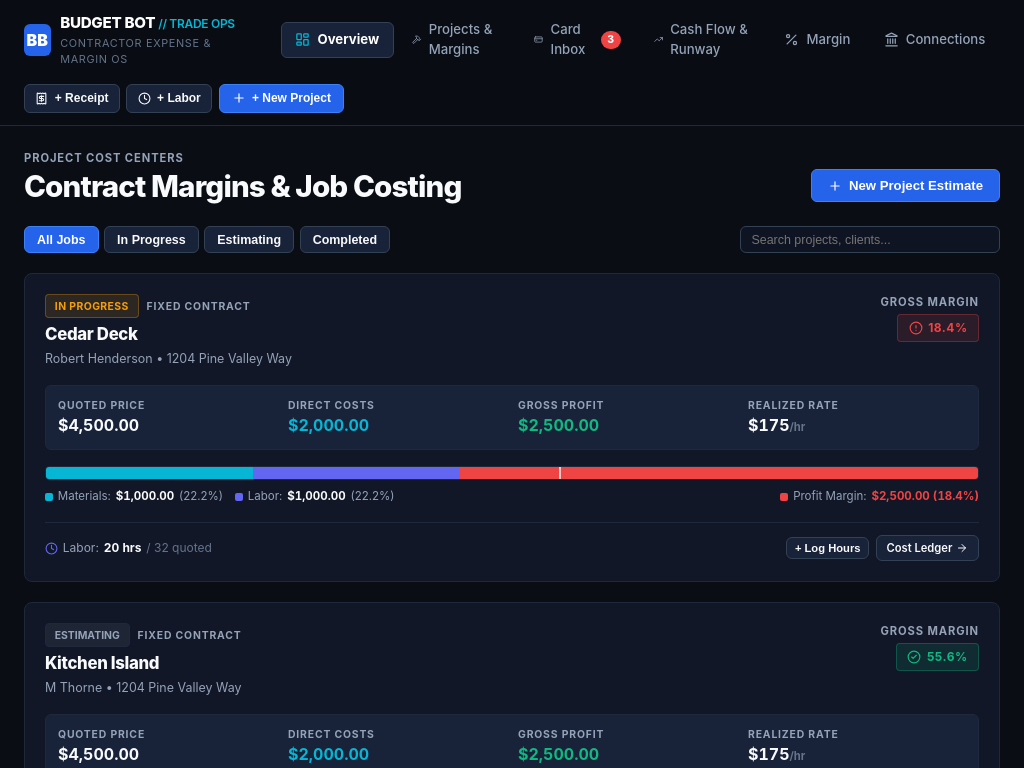
Scenario: ProjectsView › opens against the second job after being closed on the first
Click the button "+ Log Hours". click: (828, 548)
box: [786,537,870,559]
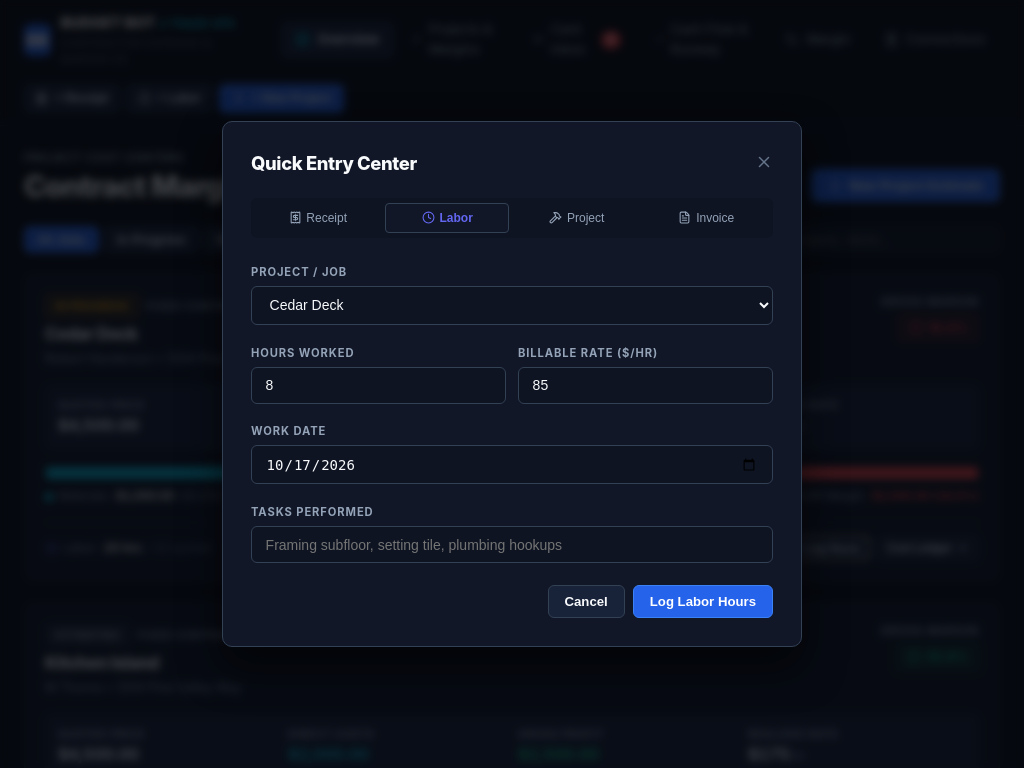
Expected: the dropdown labelled "Project / Job" shows "Cedar Deck", [251,286,773,325]
Click the button named "Close". click: (764, 164)
box: [755,153,773,174]
(page scrolled)
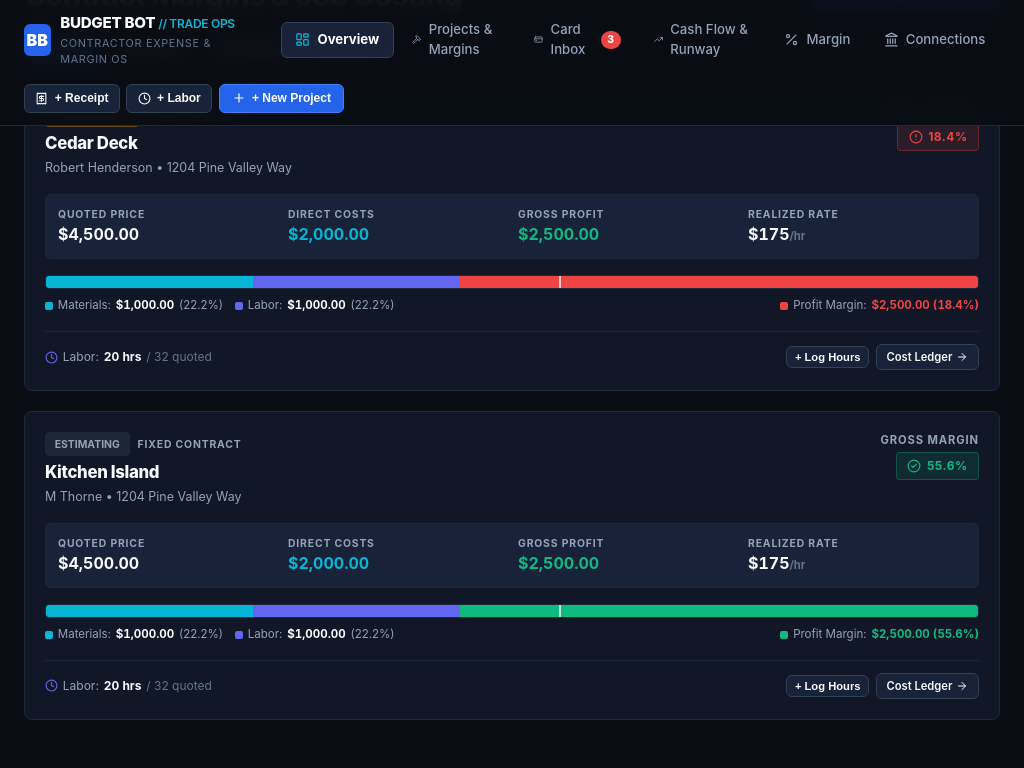
Click the 2nd button "+ Log Hours". click: (828, 686)
box: [786,675,870,697]
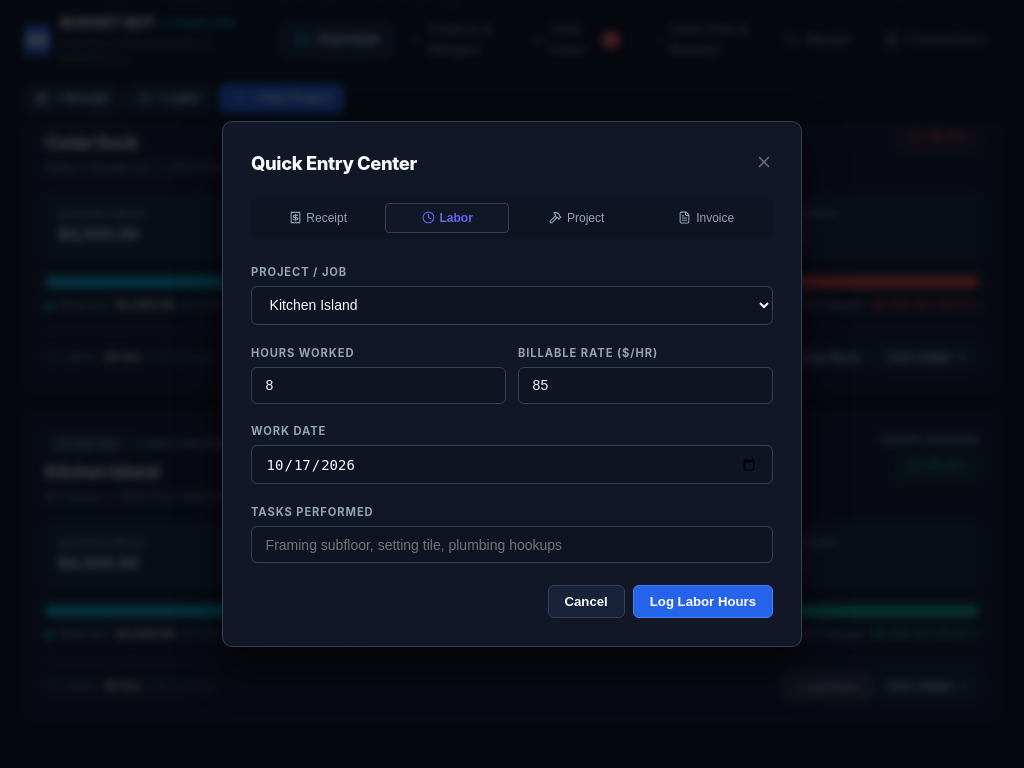
Expected: the dropdown labelled "Project / Job" shows "Kitchen Island", [251,286,773,325]
